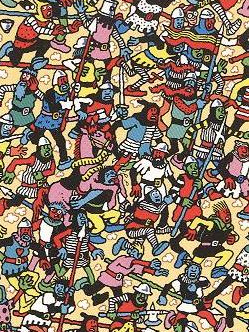waldo: (179, 3, 200, 25)
